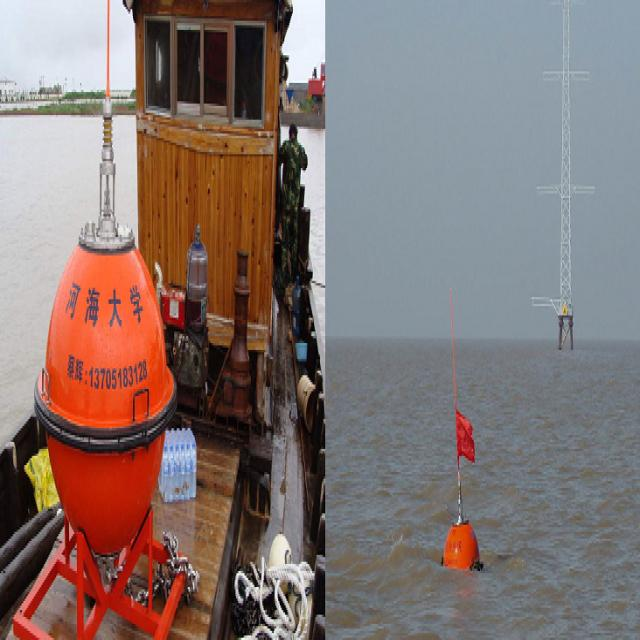buoy: (37, 99, 171, 562), (436, 284, 487, 589)
